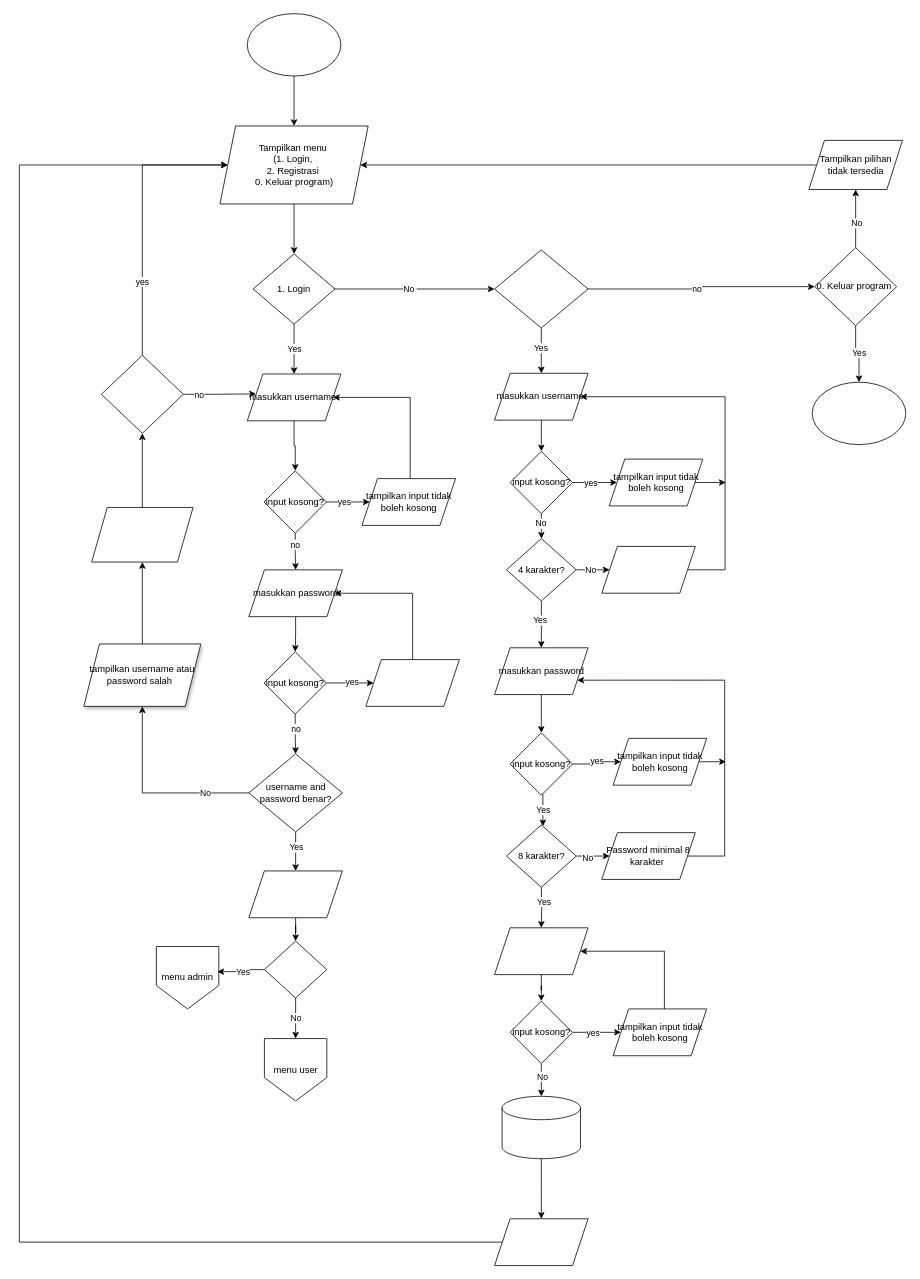
Image size: 920x1279. Some labels were removed from this diagram. The centre of each missing label's shape, as x and y in pixels:
"2. Registrasi" goes at (541,288).
"data ditambahkan ke database users" goes at (540,1127).
"end" goes at (858,413).
"Kesempatan habis?" goes at (142,394).
"login role = admin?" goes at (295,969).
"masukkan nama lengkap" goes at (541,951).
"Percobaan login -1" goes at (142,534).
"start" goes at (293,44).
"tampilkan data user yang telah dibuat" goes at (541,1242).
"Tampilkan login berhasil" goes at (295,894).
"tampilkan password tidak boleh kosong" goes at (412,682).
"Username minimal 4 karakter" goes at (648,569).
